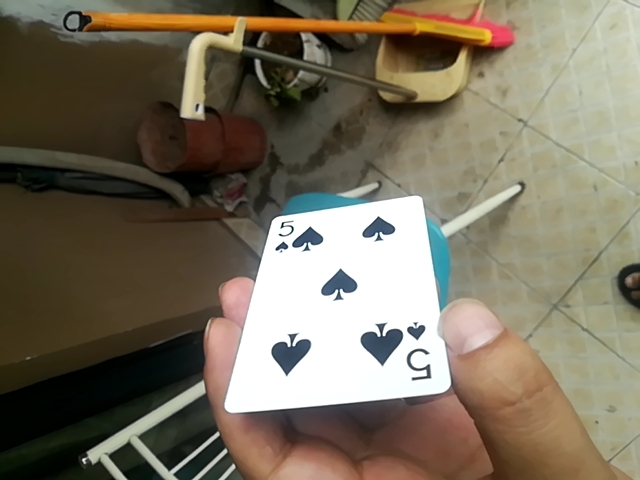ht 5: (213, 190, 443, 418)
